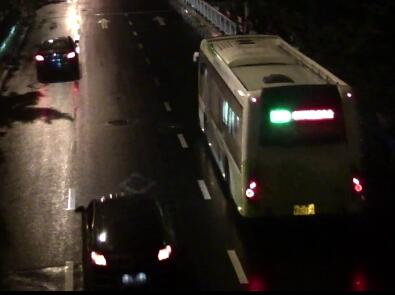bus: (191, 33, 366, 230)
car: (77, 194, 179, 288), (35, 39, 80, 81)
